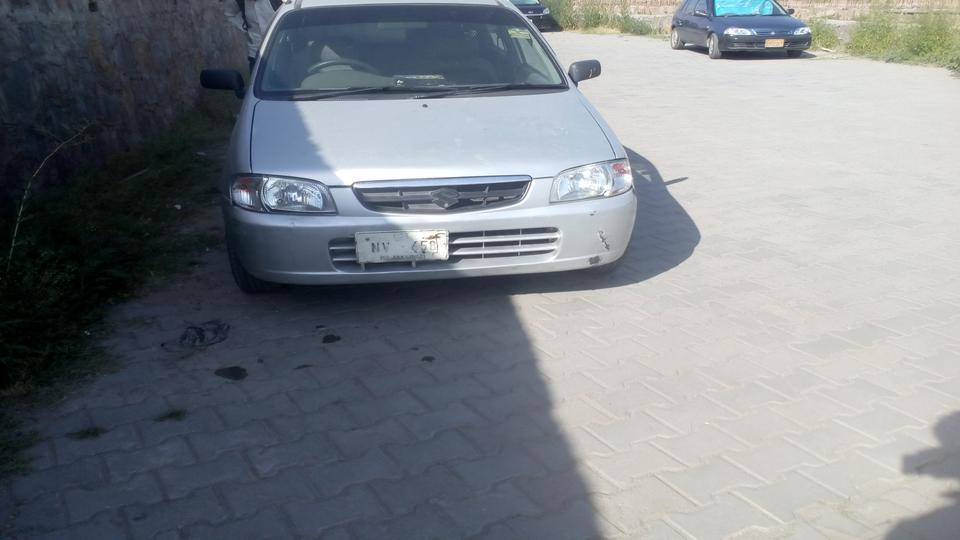NumberPlate: (354, 229, 457, 266), (764, 37, 784, 48)
